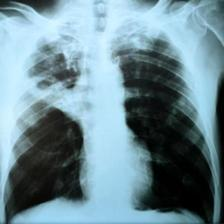tuberculosis: (1, 9, 215, 224)
